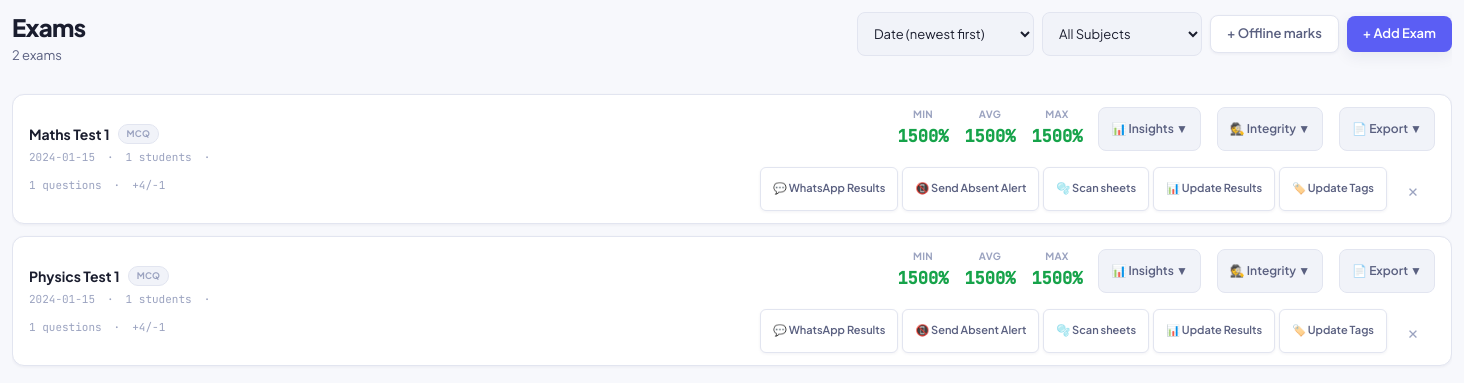
Test: Exams page — exam list filtering › shows only matching exam cards when a subject is selected
The image size is (1464, 383).
Select "Maths" in the dropdown named "subject" at (1122, 34), box [1042,12,1202,56]
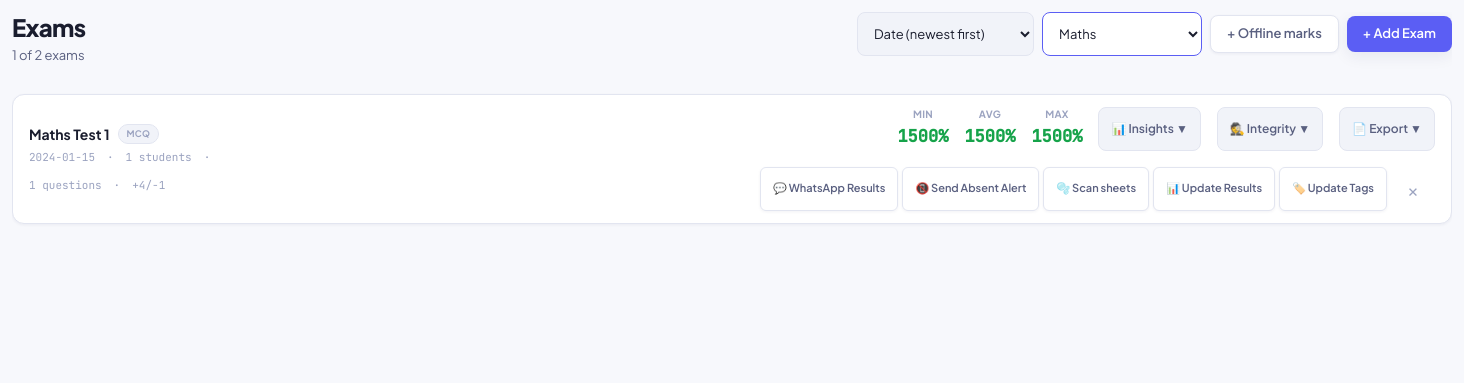
Expected: the text "Maths Test 1" is shown, [29,124,110,142]
Expected: the text "Physics Test 1" is gone
